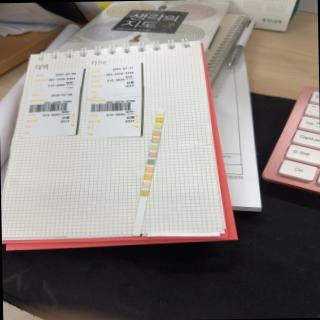mark: (141, 190, 148, 196), (147, 158, 154, 164), (153, 130, 160, 136), (142, 182, 150, 187), (146, 166, 152, 172), (150, 144, 157, 149), (144, 174, 152, 178), (154, 124, 162, 128), (156, 110, 164, 114), (149, 152, 156, 156), (151, 138, 158, 142), (156, 118, 162, 121)
